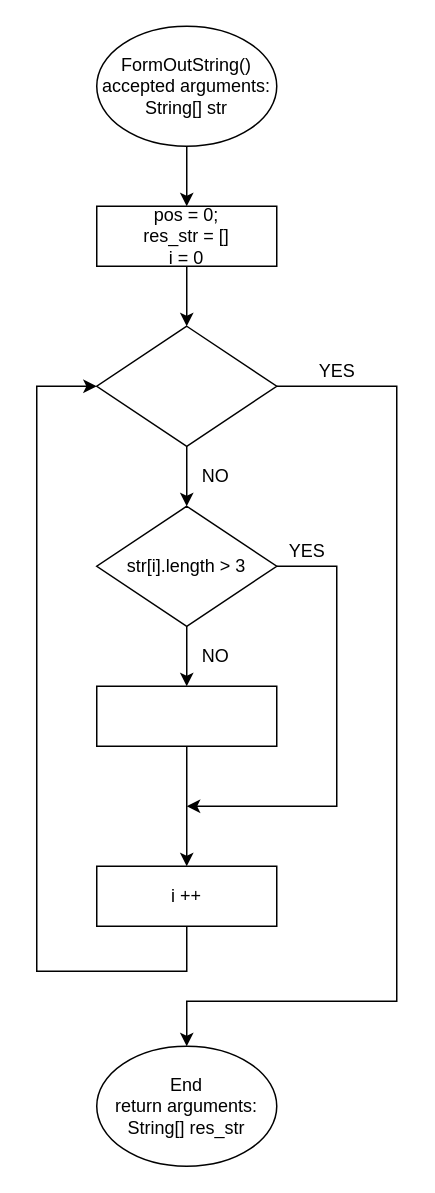
The diagram is 435 pixels wide and 1193 high, and some of its shapes have lost their labels. Here are the shapes that lost their labels. From the top down, the centre of each, then its label:
point (186, 385): i > = str.length
point (186, 715): res_str[pos] += str[i] pos ++
